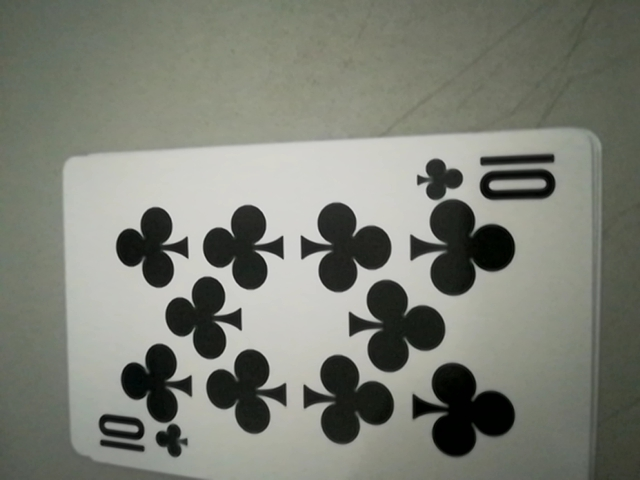mh 10: (415, 144, 563, 206), (92, 414, 190, 469)
